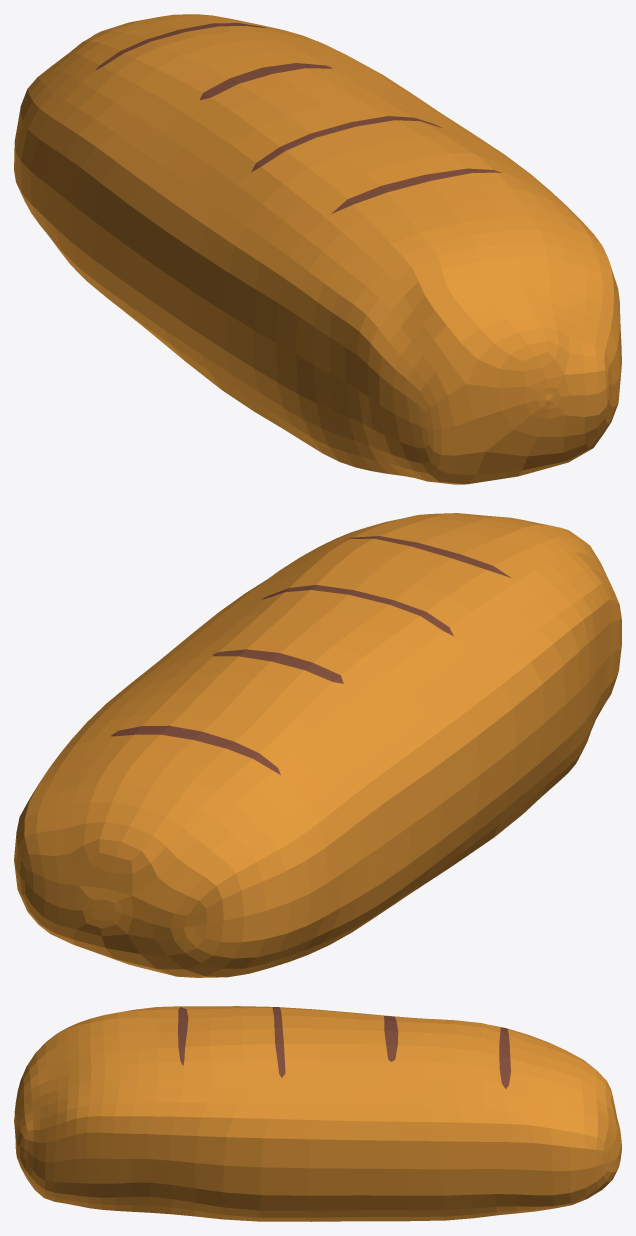
The model's file is bread_cutted.fbx.
3 views of the same model, one above another, from view 1: azimuth 30°, elevation 25°; view 2: azimuth 150°, elevation 25°; view 3: azimuth 270°, elevation 25° (orthographic). The views are drawn at different scales.
Visible parts, largest first — view 1: Bread; view 2: Bread; view 3: Bread.
Part boxes in pixels (x1,y1,x2,y2): Bread: [14, 14, 621, 484]; Bread: [14, 513, 621, 977]; Bread: [14, 1006, 621, 1221].
Size of the model in its own units: 17.13 by 7.26 by 5.17.
